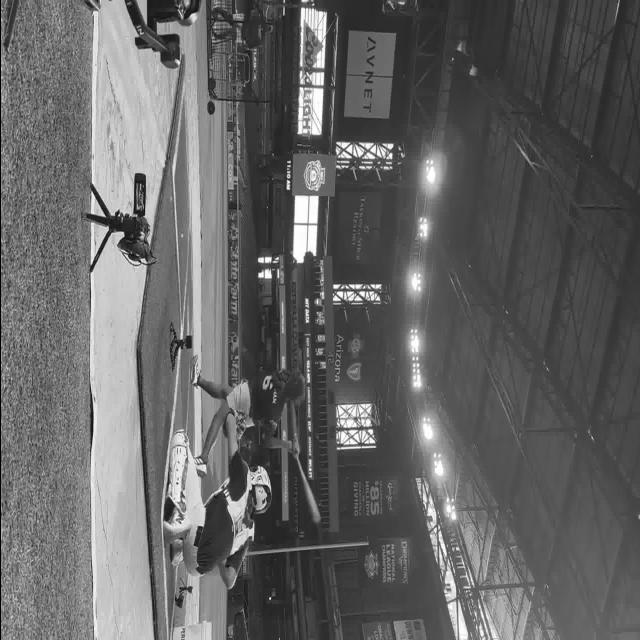baseball_glove: (234, 410, 247, 440)
bat: (294, 458, 320, 522)
shoe: (162, 511, 190, 540), (192, 454, 208, 478), (170, 538, 183, 567), (190, 354, 200, 386)
